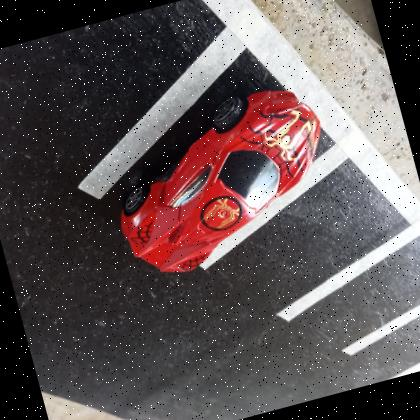Car: (120, 88, 322, 272)
